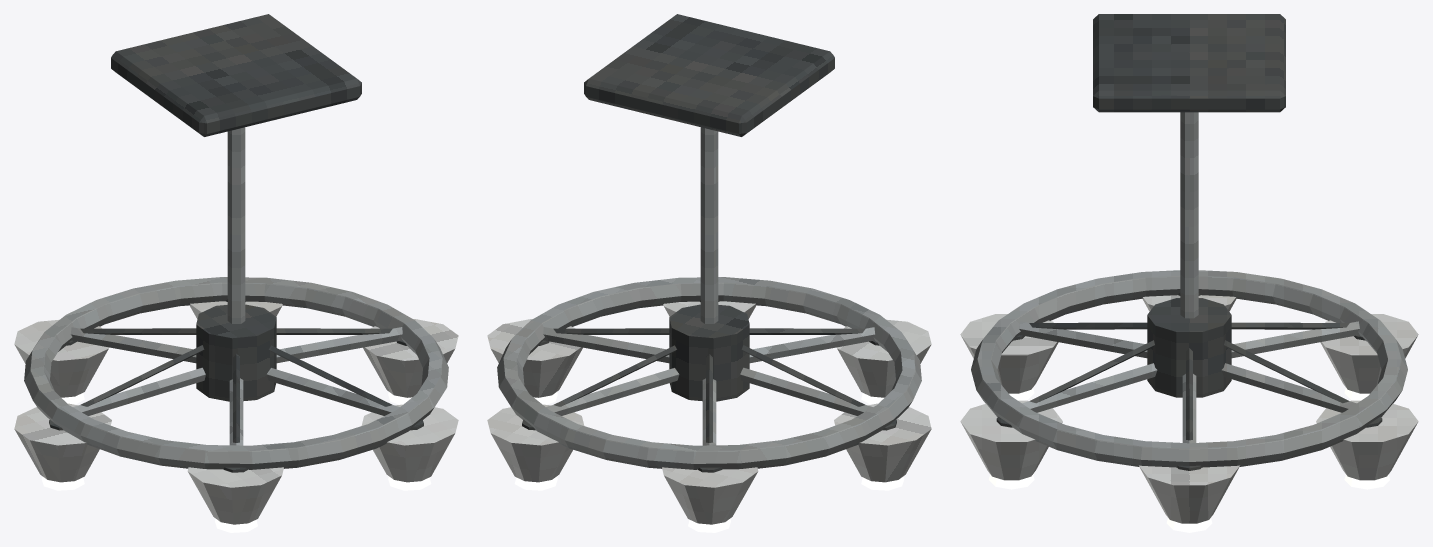
The model's file is chandelier.glb.
The picture shows the model from 3 angles, left to right: view 1: azimuth 30°, elevation 25°; view 2: azimuth 150°, elevation 25°; view 3: azimuth 270°, elevation 25°; orthographic projection. The views are drawn at different scales.
Visible parts, largest first — view 1: body, lamp_on; view 2: body, lamp_on; view 3: body, lamp_on.
Boxes of the visible parts, x1,y1,x2,y2 form: body: [14, 14, 458, 524]; lamp_on: [41, 392, 431, 532]; body: [487, 14, 931, 524]; lamp_on: [514, 392, 904, 532]; body: [960, 14, 1418, 523]; lamp_on: [989, 388, 1389, 532].
Bounding box in the file's own units: 0.8417 × 0.702 × 0.7589.
5 materials, 3 textured.
